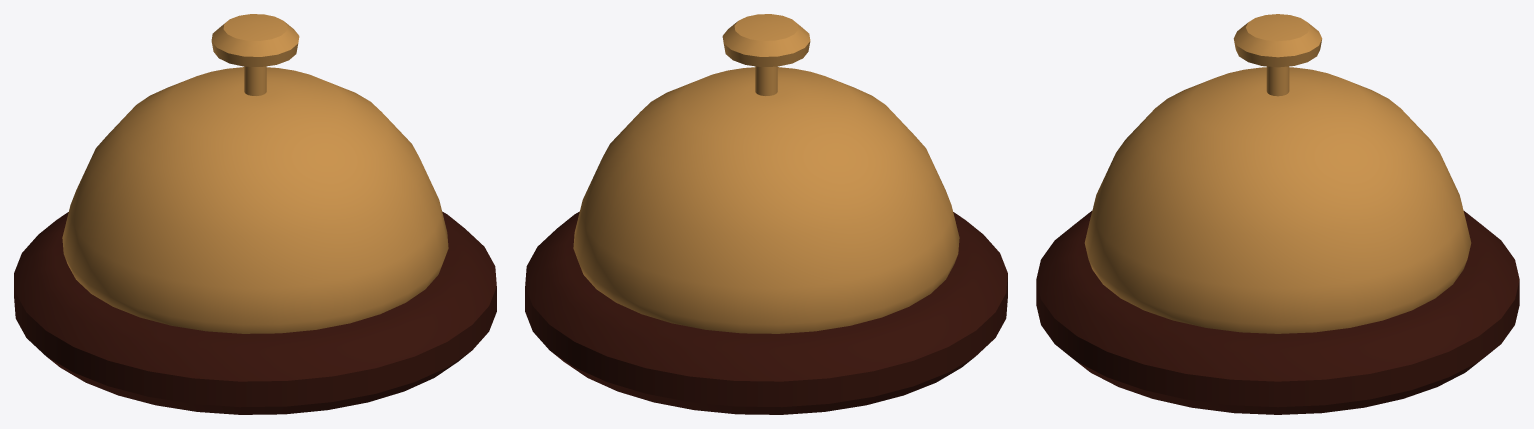
File: DeskBell.glb
The picture shows the model from 3 angles, left to right: view 1: azimuth 30°, elevation 25°; view 2: azimuth 150°, elevation 25°; view 3: azimuth 270°, elevation 25°; orthographic projection.
Visible parts, largest first — view 1: DeskBell_Dome, DeskBell_Base, DeskBell_Button; view 2: DeskBell_Dome, DeskBell_Base, DeskBell_Button; view 3: DeskBell_Dome, DeskBell_Base, DeskBell_Button.
Part boxes in pixels (x1,y1,x2,y2): DeskBell_Dome: (62,67,448,333); DeskBell_Base: (14,211,496,414); DeskBell_Button: (211,14,299,95); DeskBell_Dome: (573,67,959,333); DeskBell_Base: (525,211,1007,414); DeskBell_Button: (722,14,810,95); DeskBell_Dome: (1084,67,1471,333); DeskBell_Base: (1036,211,1519,414); DeskBell_Button: (1233,14,1322,96).
Bounding box in the file's own units: 0.12 × 0.081 × 0.12.
